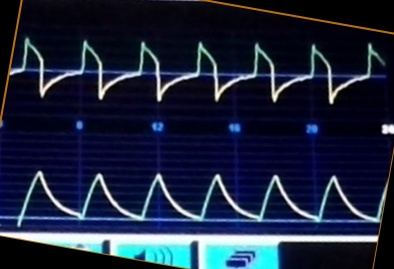Normal Flow: (16, 35, 384, 107)
Normal Volume: (10, 163, 379, 227)
